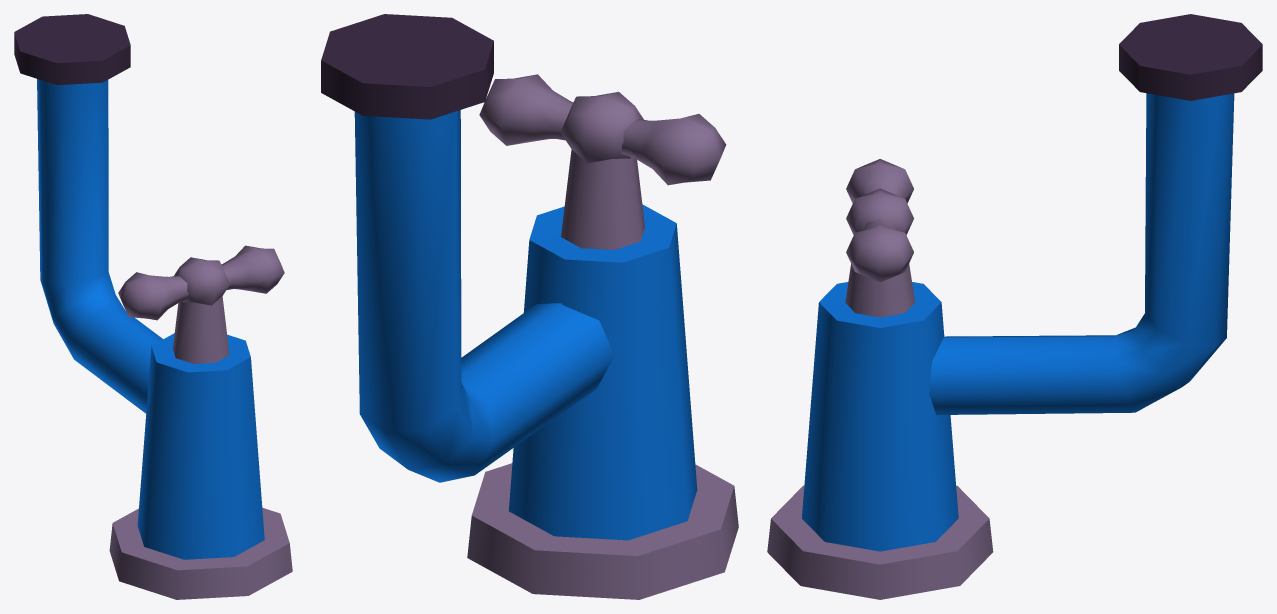
The model's file is Tap_Head_.fbx.
3 renders of one model, left to right at view 1: azimuth 30°, elevation 25°; view 2: azimuth 150°, elevation 25°; view 3: azimuth 270°, elevation 25°, orthographic. The views are drawn at different scales.
Parts seen in each view (by area): view 1: Cylinder002; view 2: Cylinder002; view 3: Cylinder002.
Boxes of the visible parts, <box> form: Cylinder002: <box>14,14,292,599</box>; Cylinder002: <box>321,14,738,599</box>; Cylinder002: <box>767,14,1262,599</box>.
Bounding box in the file's own units: 0.1717 × 0.4264 × 0.3764.
